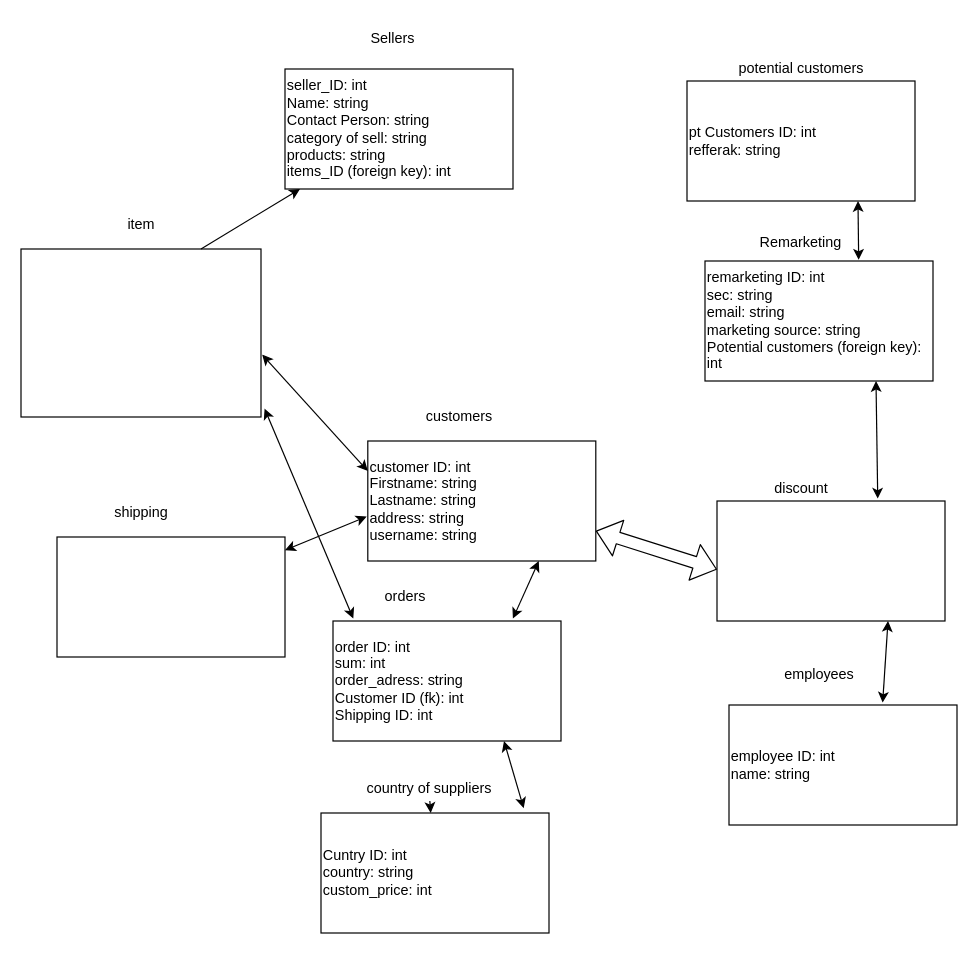
This 978x954 diagram has some shape labels left out. Here are the shapes that lost their labels. From the top down, the centre of each, then its label:
At point (140, 332): "item_ID: int price: int availability: bit category: string".
At point (830, 560): "discount ID: int discount type: string vality until: datetime".
At point (170, 596): "Shipping ID: int shipping: date shipping_done: boolean shipping_method: string".
